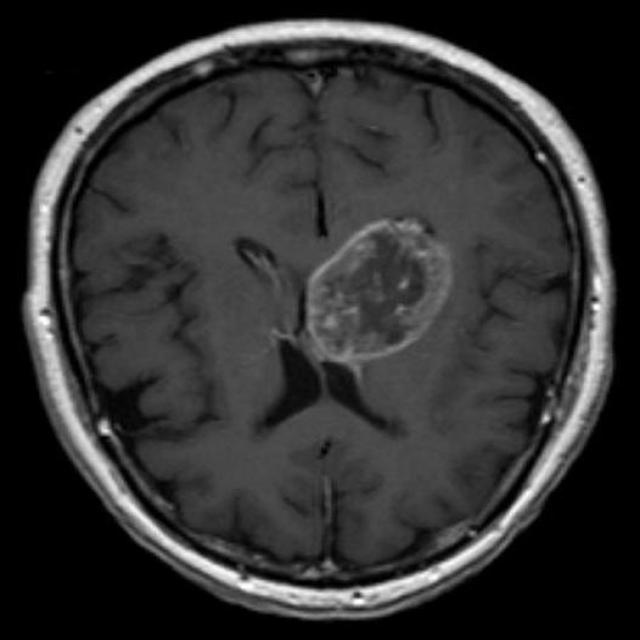Tumor-Cell: (291, 197, 460, 374)
